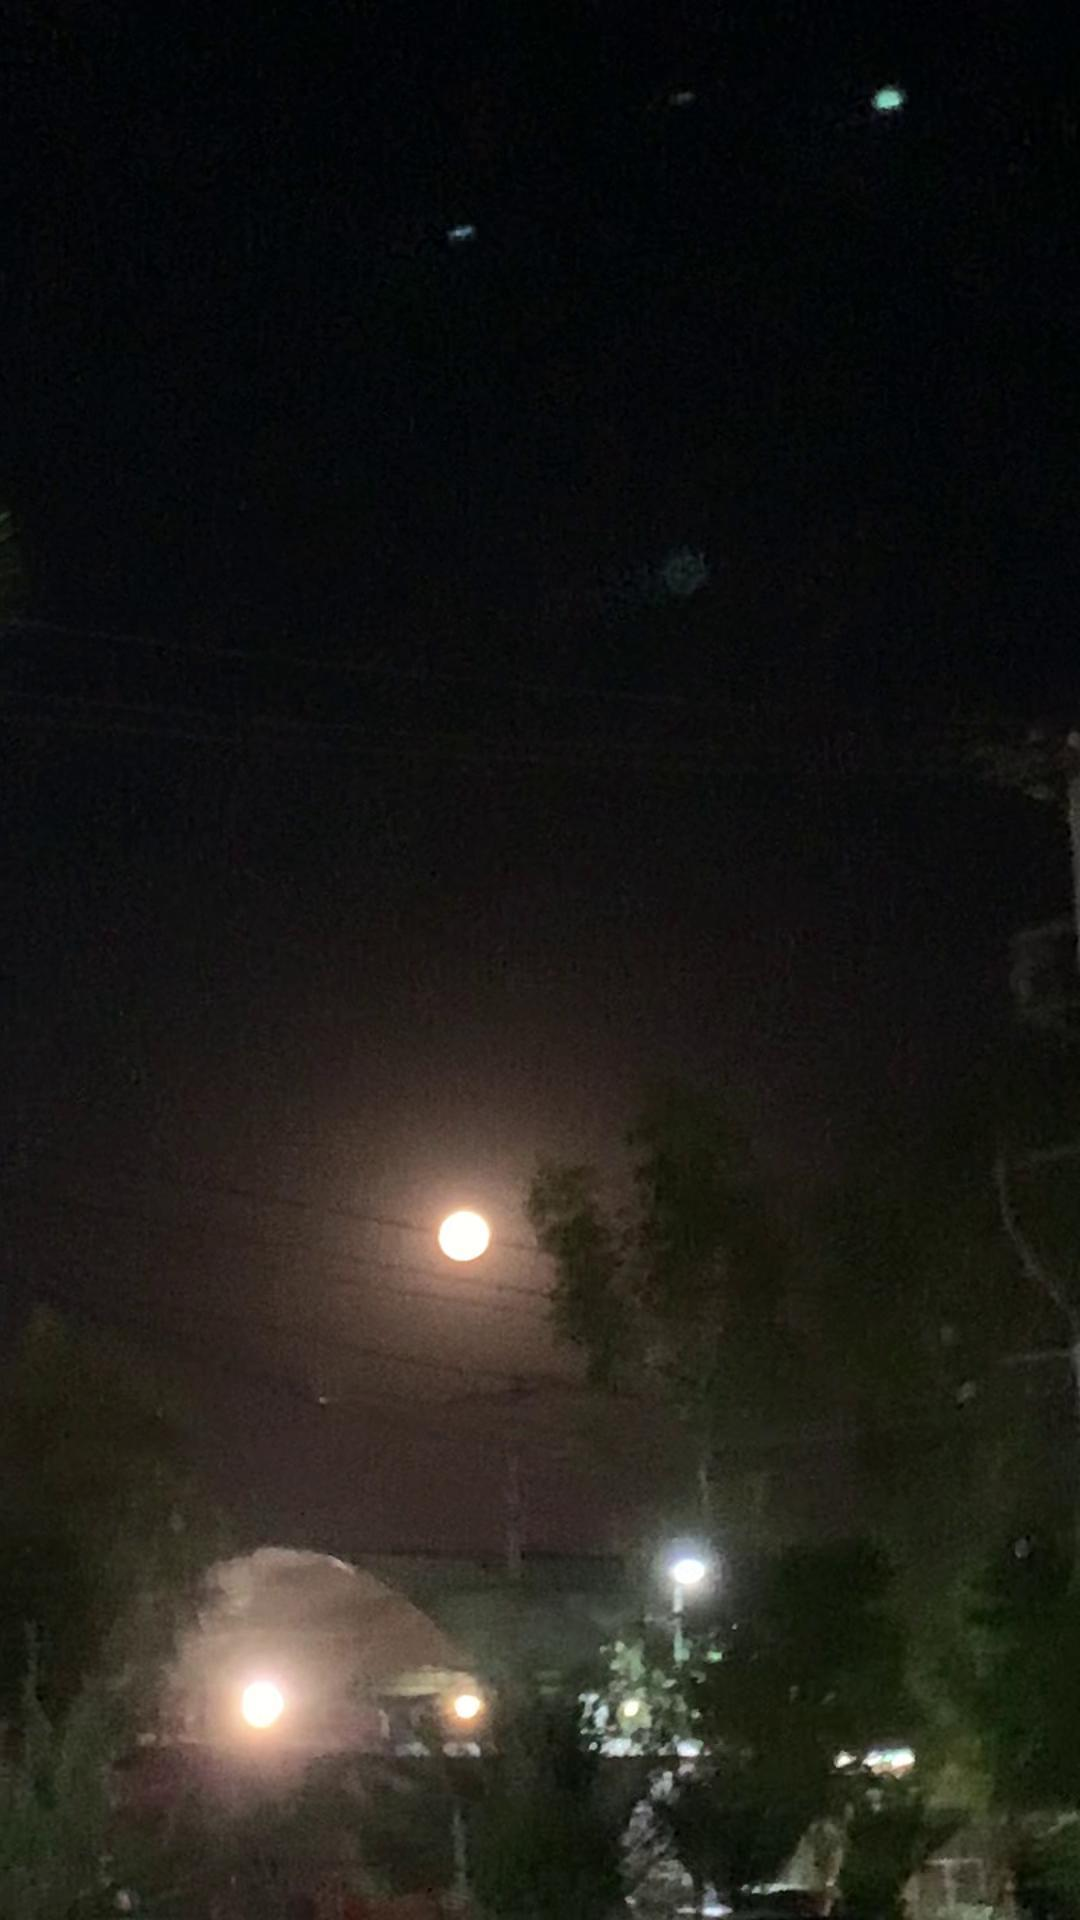moon: (413, 1187, 502, 1262)
